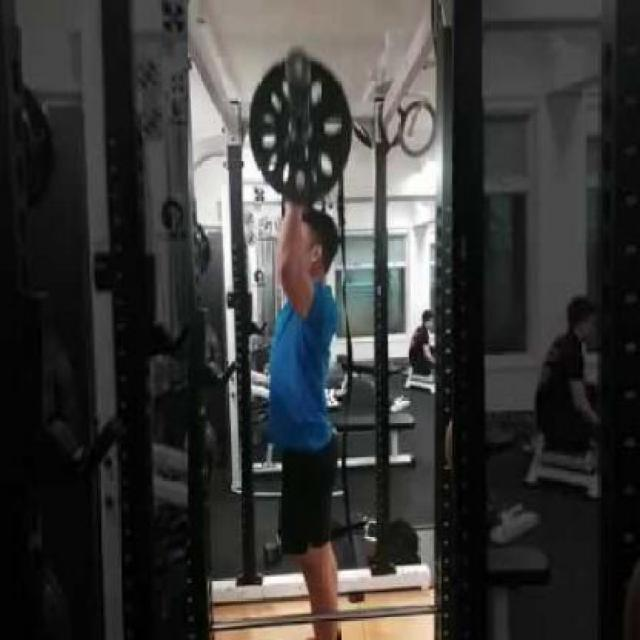Barbell: (283, 42, 317, 92)
